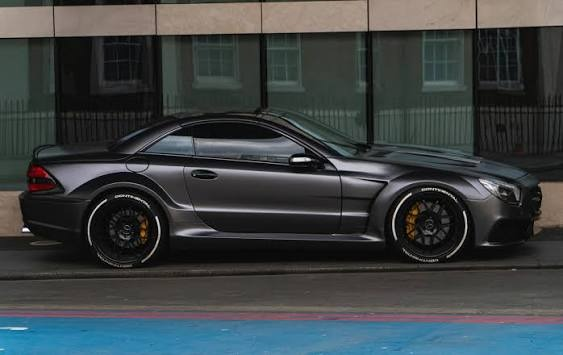car: (10, 105, 551, 268), (10, 110, 548, 263)
